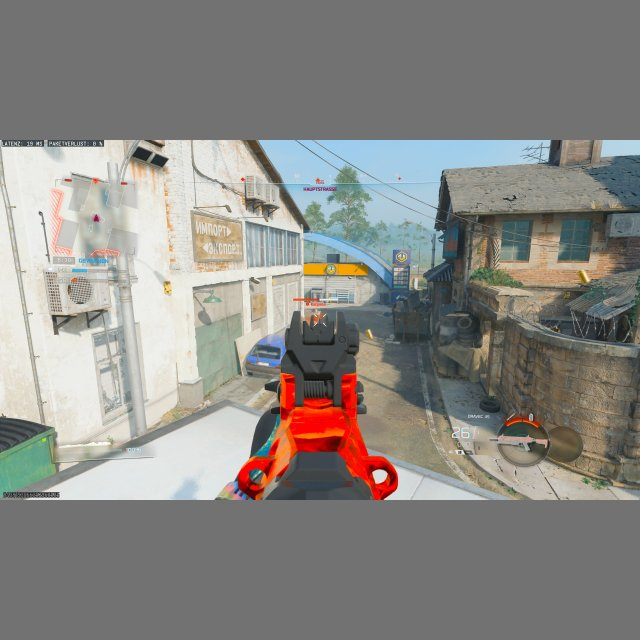player: (311, 310, 322, 327)
